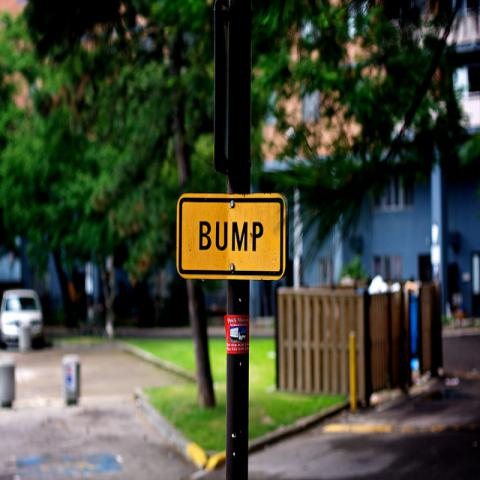car: (0, 289, 44, 350)
